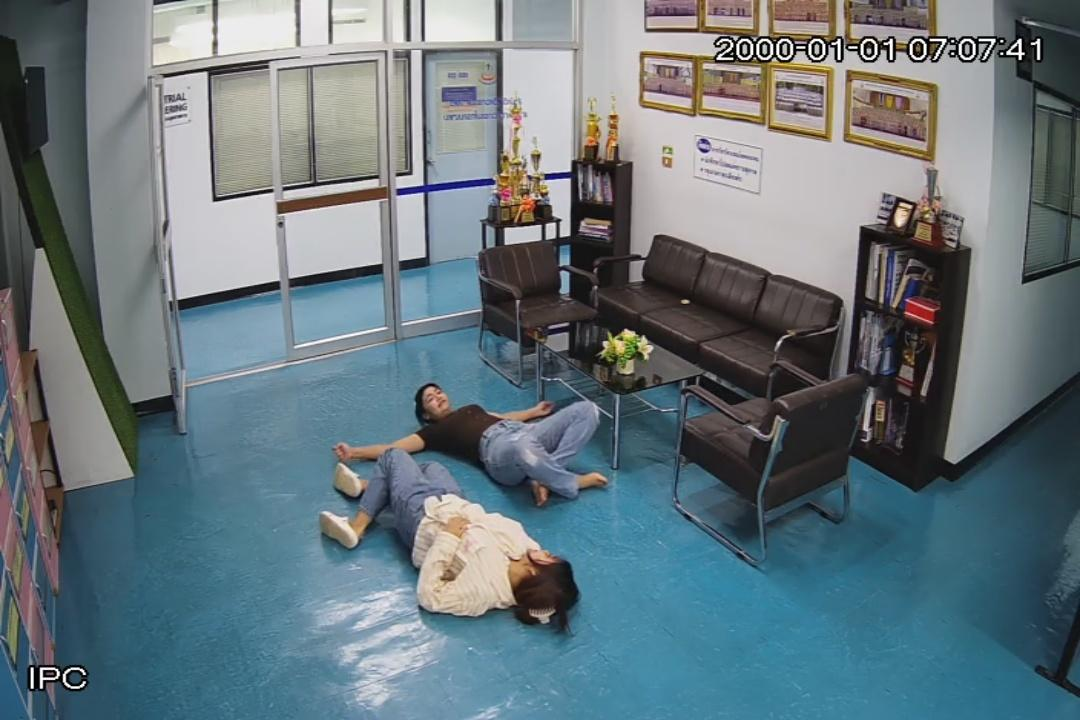fall: (324, 444, 586, 634), (335, 379, 612, 500)
